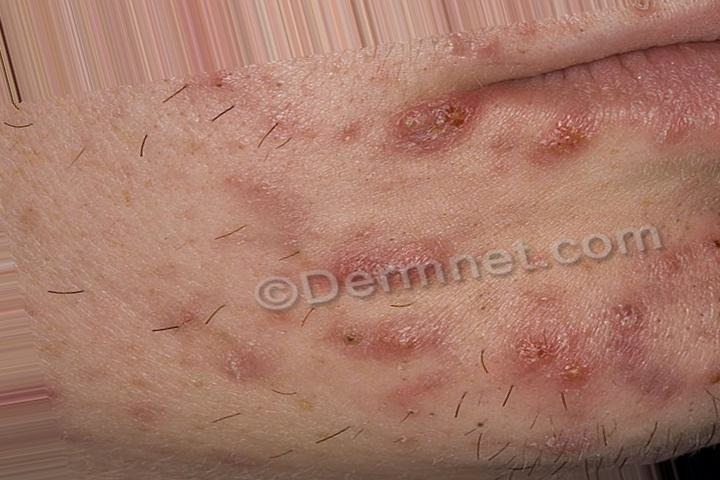Acne: (184, 103, 693, 432)
